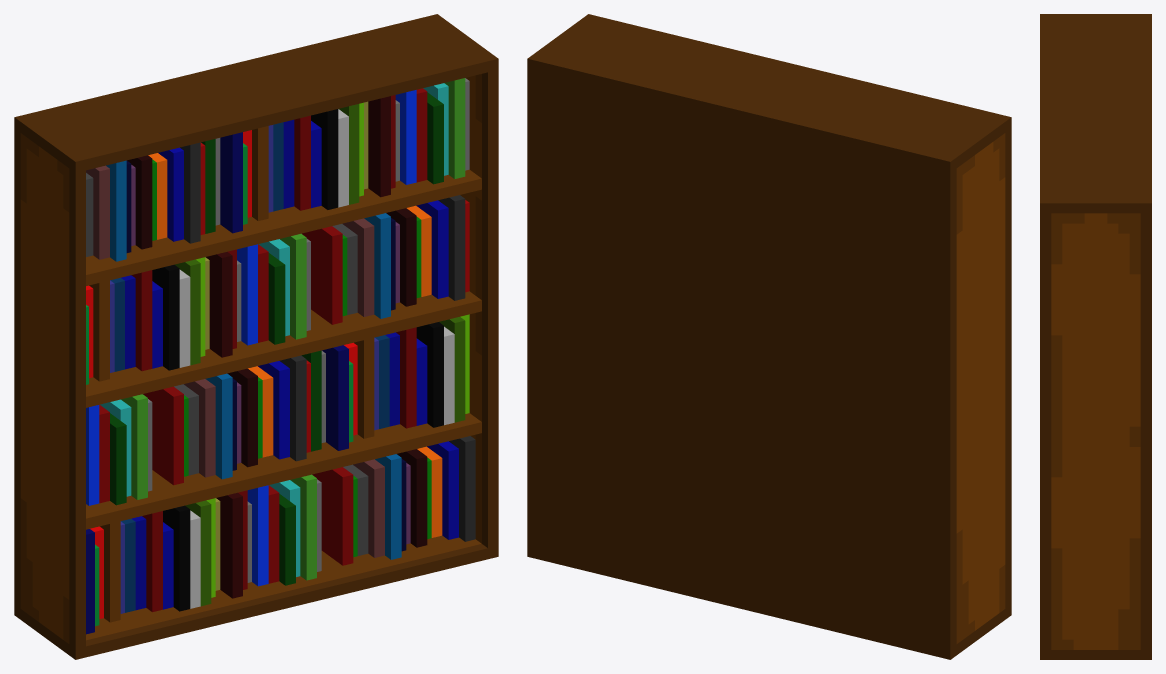
The model's file is Bookshelf.obj.
3 views of the same model, side by side, from view 1: azimuth 30°, elevation 25°; view 2: azimuth 150°, elevation 25°; view 3: azimuth 270°, elevation 25° (orthographic). The views are drawn at different scales.
Bounding box in the file's own units: 4 × 4.5 × 1.
Materials: 1 (1 with a texture image).
